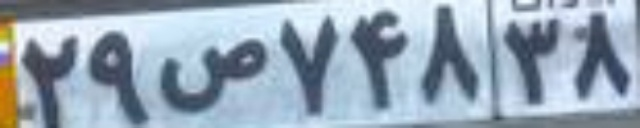2: (19, 33, 77, 127)
3: (502, 16, 564, 104)
4: (350, 12, 412, 110)
7: (278, 14, 344, 114)
8: (419, 5, 482, 99), (570, 10, 633, 97)
9: (83, 32, 148, 125)
saat: (155, 39, 269, 112)
